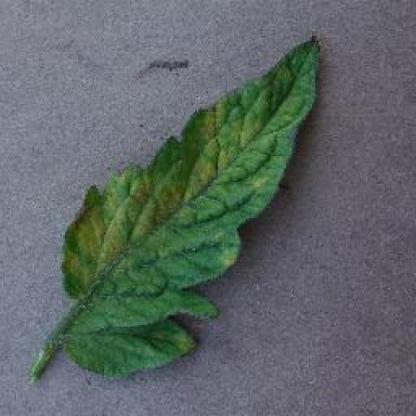Tomato_Leaf_Mold: (62, 35, 318, 377)
